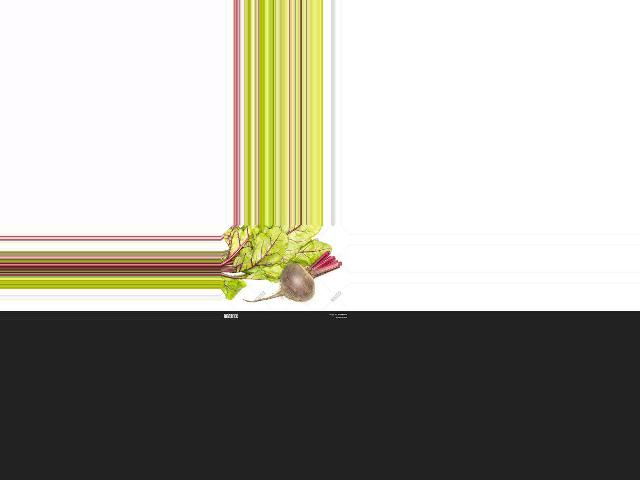beet: (243, 251, 342, 302)
